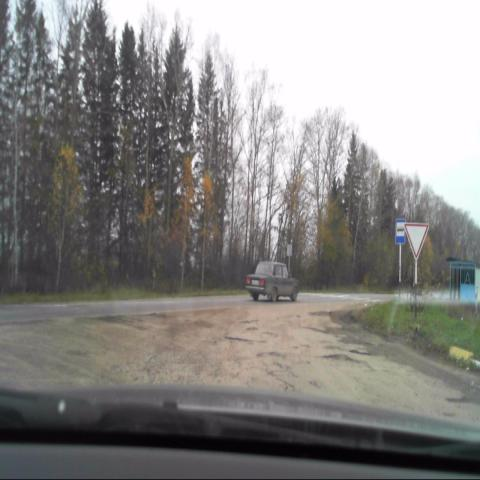2_4: (406, 222, 428, 255)
5_16: (396, 220, 404, 243)
